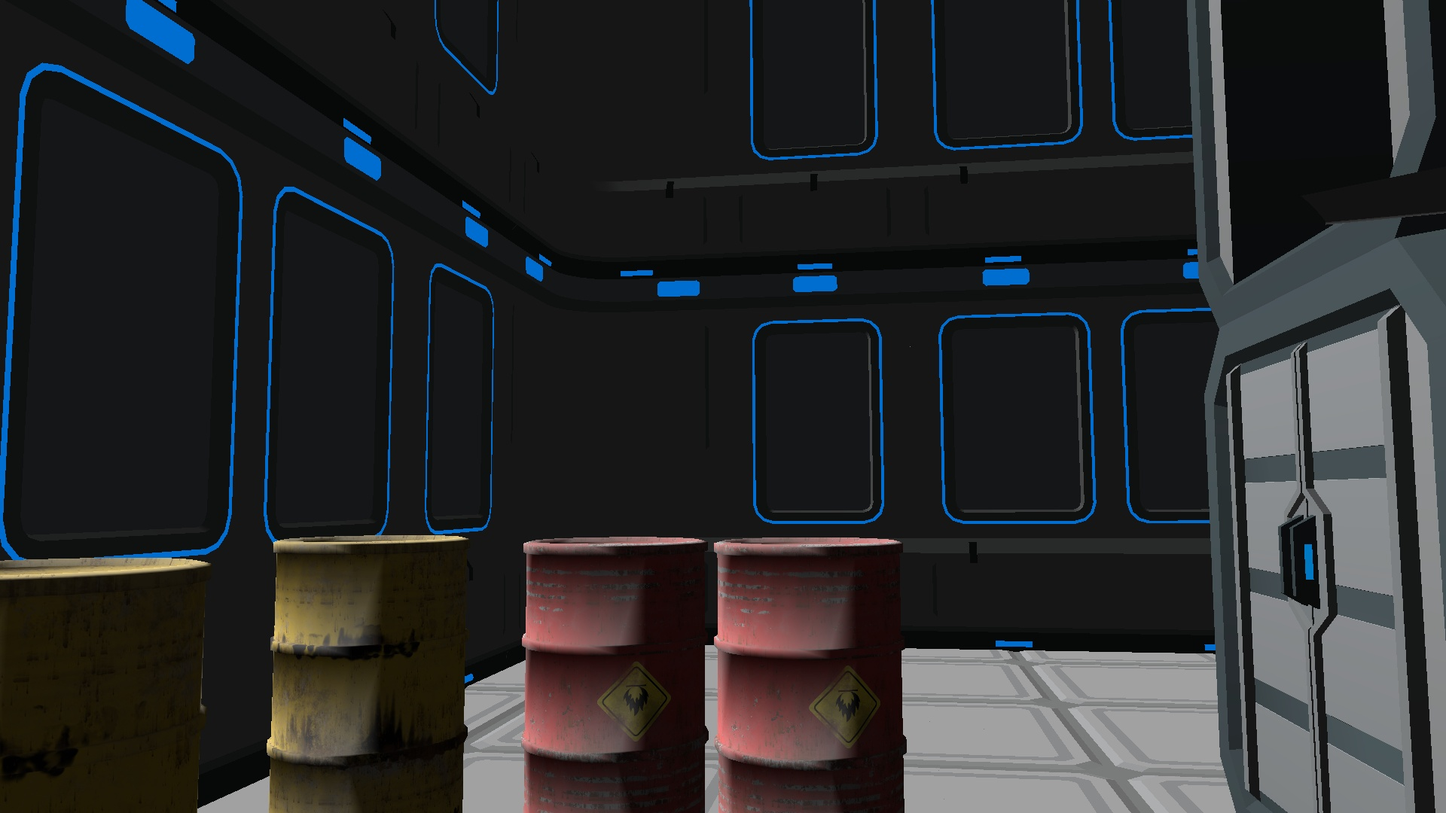toxic barrel: (267, 535, 468, 813), (0, 558, 211, 813), (714, 536, 907, 813), (521, 536, 709, 813)
